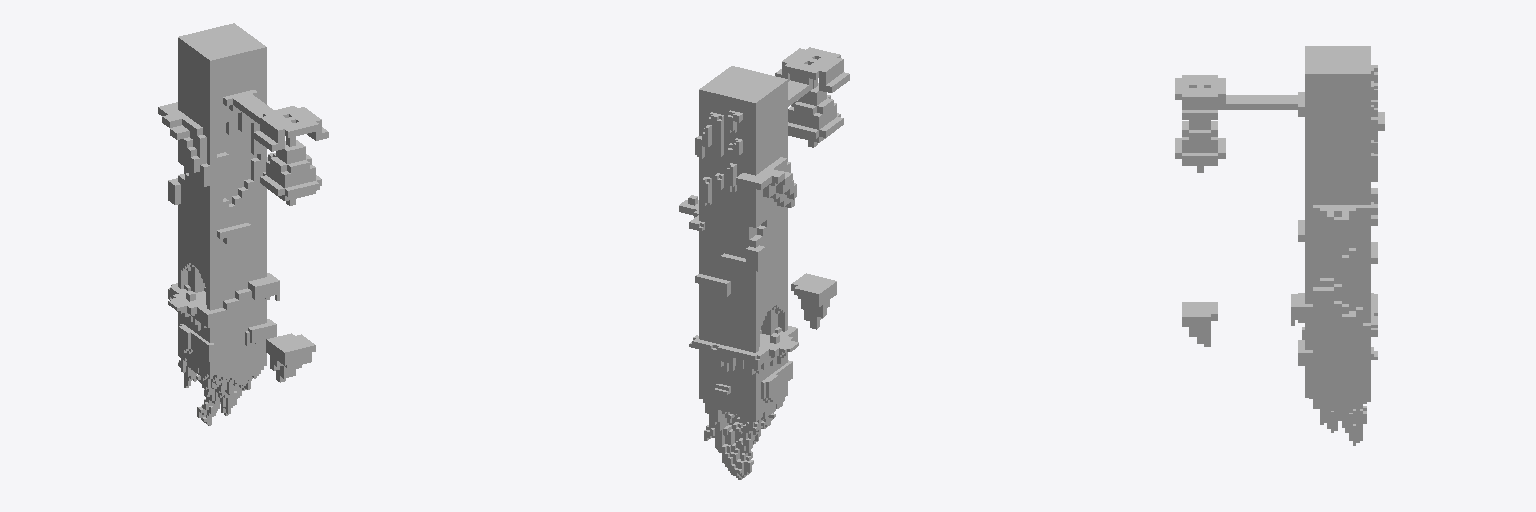
The model's file is level2.obj.
The picture shows the model from 3 angles: view 1: azimuth 30°, elevation 25°; view 2: azimuth 150°, elevation 25°; view 3: azimuth 270°, elevation 25°; orthographic projection.
Bounding box in the file's own units: 35 × 118 × 58.